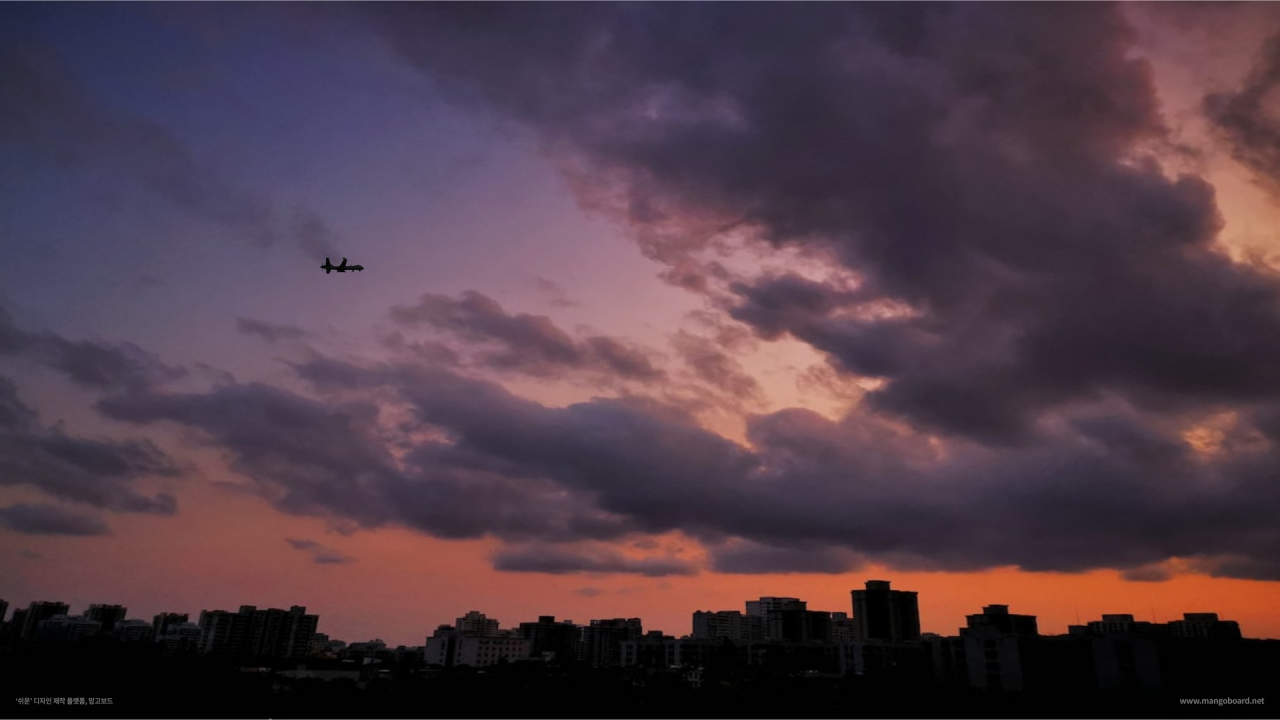military drone: (319, 256, 364, 274)
